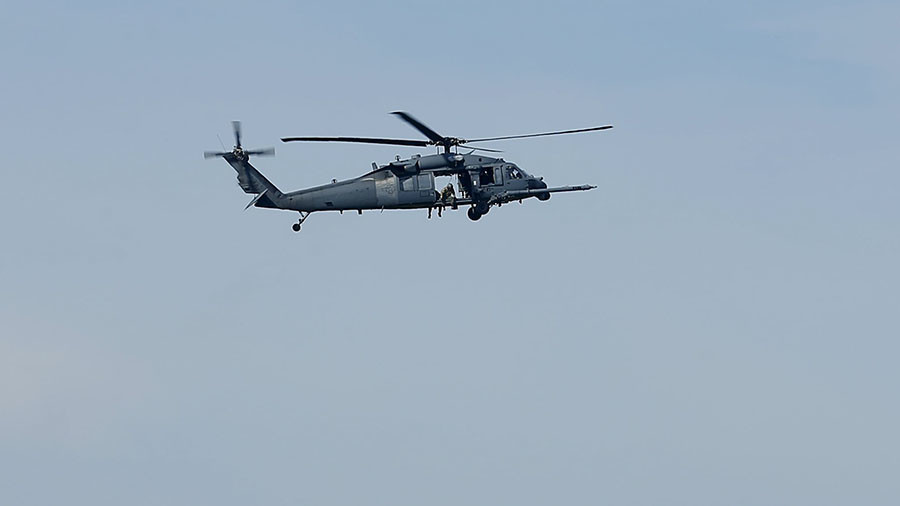MilitaryHelicopter: (213, 120, 617, 241)
